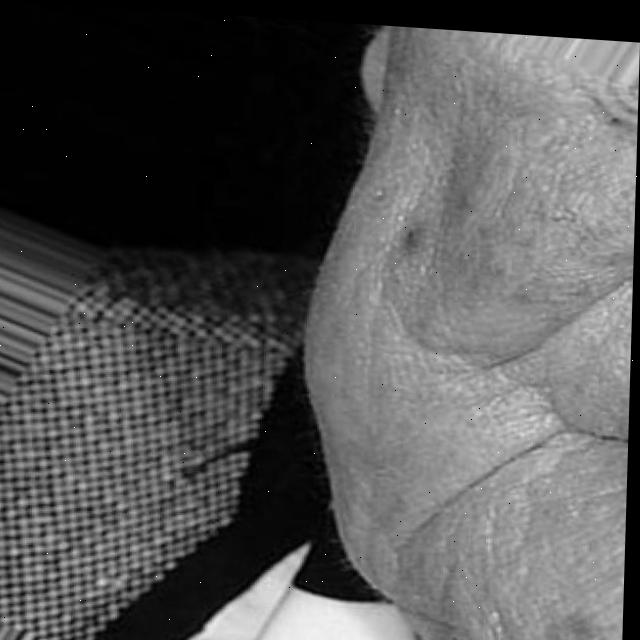Rosacea: (432, 183, 611, 309)
